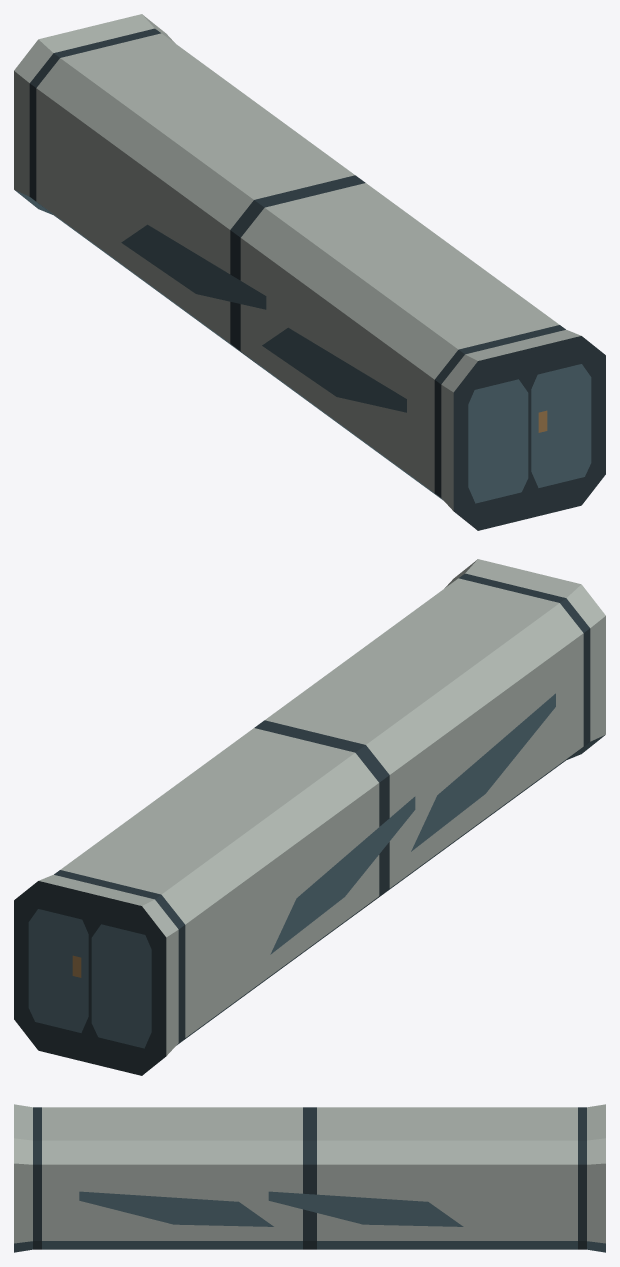
The model's file is K-12_iso_container.glb.
The picture shows the model from 3 angles, top to bottom: view 1: azimuth 30°, elevation 25°; view 2: azimuth 150°, elevation 25°; view 3: azimuth 270°, elevation 25°; orthographic projection. The views are drawn at different scales.
Parts seen in each view (by area): view 1: K-12_iso_container; view 2: K-12_iso_container; view 3: K-12_iso_container.
Boxes of the visible parts, x1,y1,x2,y2 form: K-12_iso_container: (14, 14, 605, 530); K-12_iso_container: (14, 559, 605, 1075); K-12_iso_container: (14, 1104, 605, 1252).
Size of the model in its own units: 2.44 by 2.6 by 12.2.
